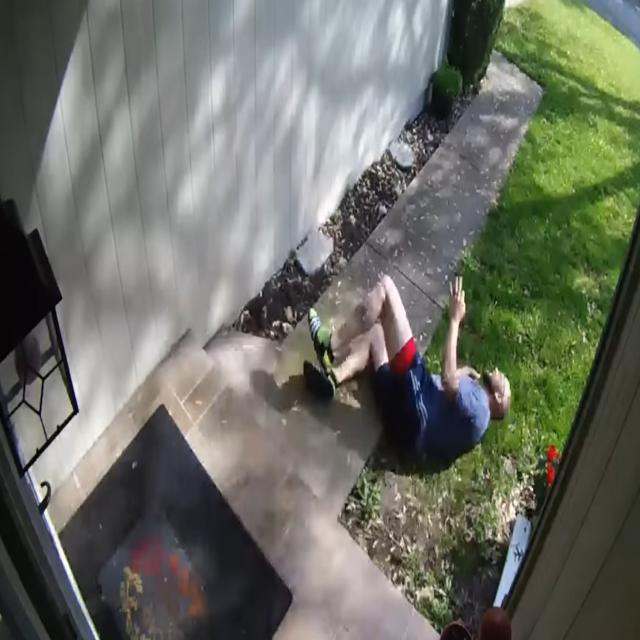fallen: (304, 275, 511, 465)
